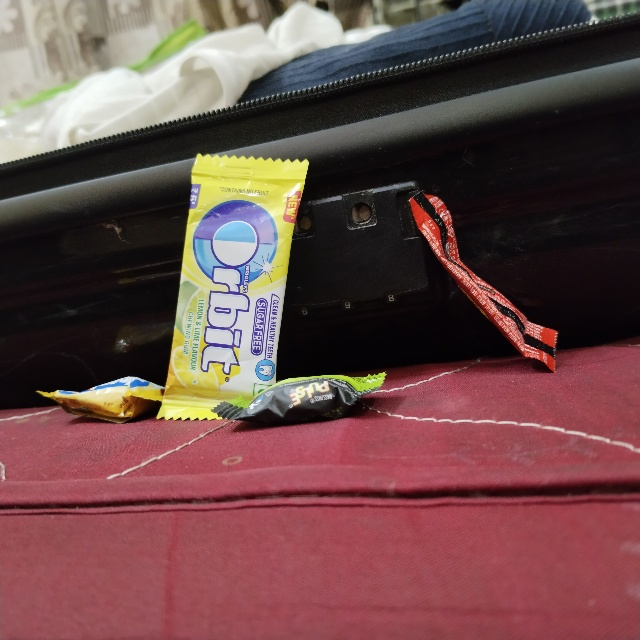Alpenlibe Creamfills: (39, 376, 171, 419)
Nescafe Coffee: (395, 211, 440, 435)
Orbit: (198, 147, 307, 413)
Pulse: (379, 352, 431, 528)
